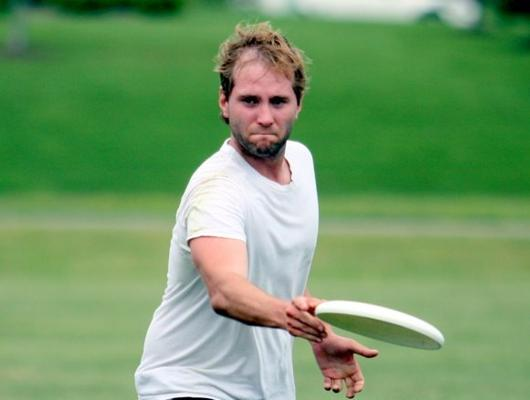person: (134, 26, 379, 400)
